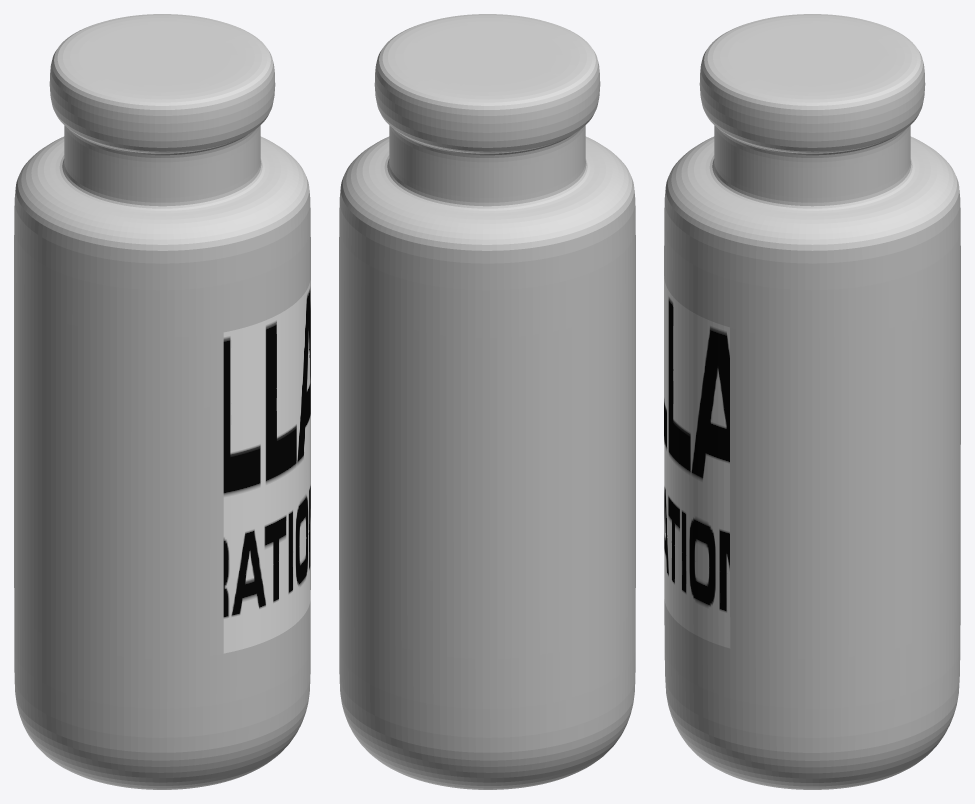
Rendered from Ampoule.glb.
3 views of the same model, side by side, from view 1: azimuth 30°, elevation 25°; view 2: azimuth 150°, elevation 25°; view 3: azimuth 270°, elevation 25° (orthographic).
Visible parts, largest first — view 1: Cylinder; view 2: Cylinder; view 3: Cylinder.
Part boxes in pixels (x1=…): Cylinder: x1=14, y1=14, x2=310, y2=789; Cylinder: x1=339, y1=14, x2=635, y2=789; Cylinder: x1=664, y1=14, x2=960, y2=789.
Bounding box in the file's own units: 0.0201 × 0.0515 × 0.0201.
2 materials, 1 textured.
